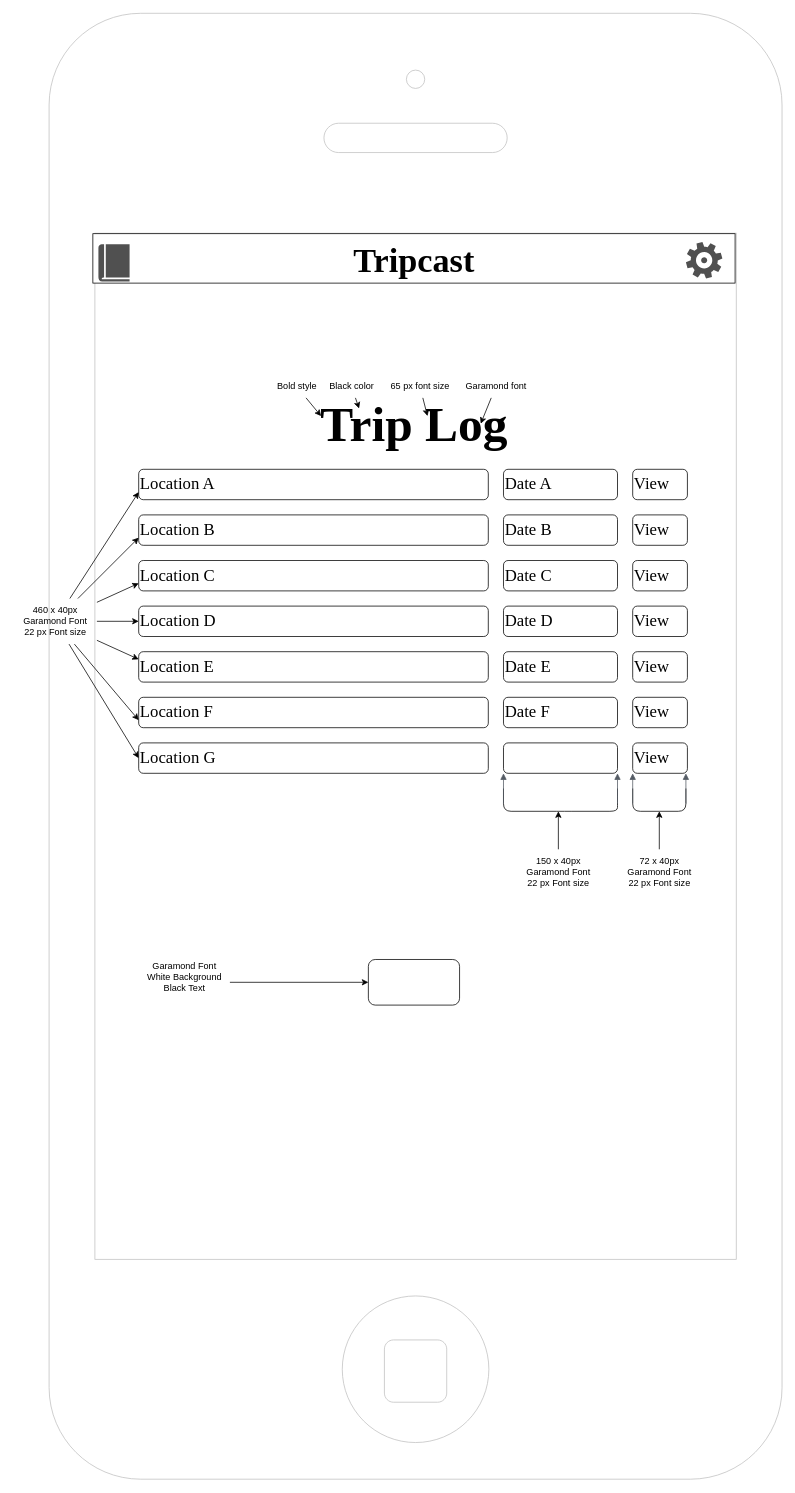
This 795x1493 diagram has some shape labels left out. Each missing label, with the centre of its shape:
Back: the point at 414,982
Date G: the point at 560,757
